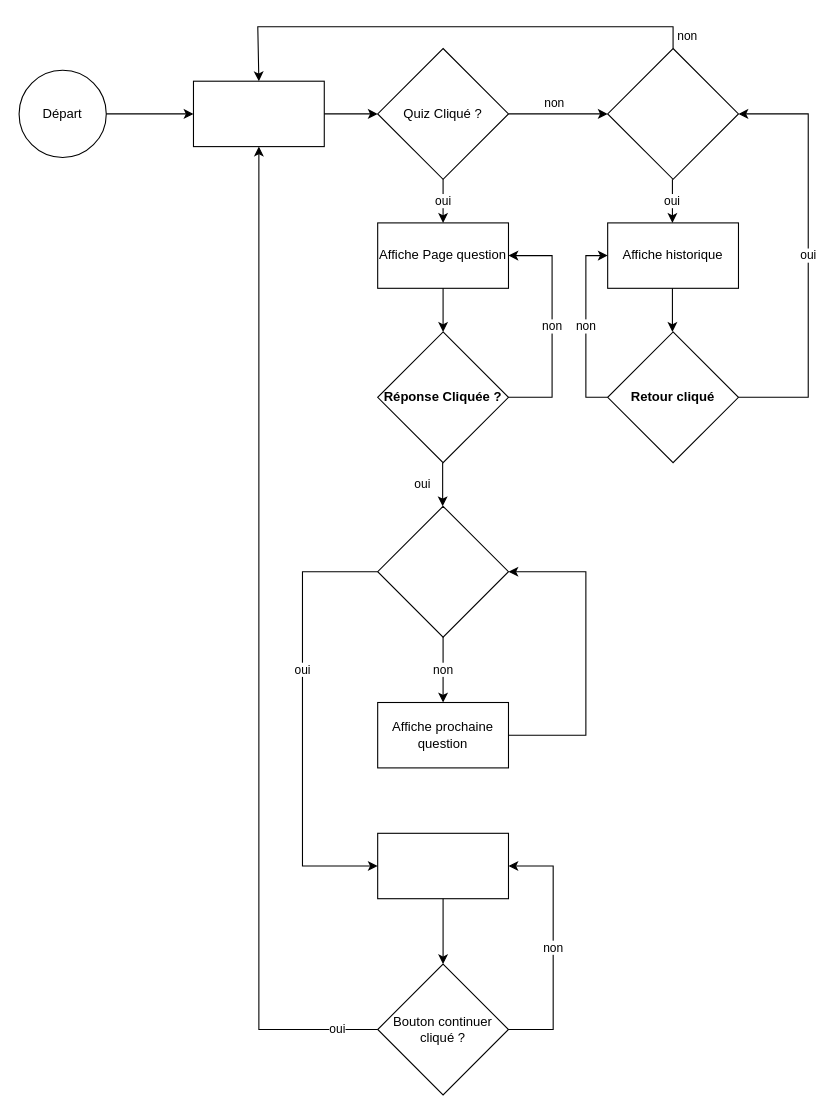
The diagram is 836 pixels wide and 1114 high, and some of its shapes have lost their labels. The shapes that lost their labels are listed below. From the top down, each one's centre as x and y in pixels, then its label:
At point 258,113: "Menu principale s'affiche".
At point 672,113: "Historique cliqué".
At point 442,571: "Dernière question répondue ?".
At point 442,865: "Affiche scène resultat".
